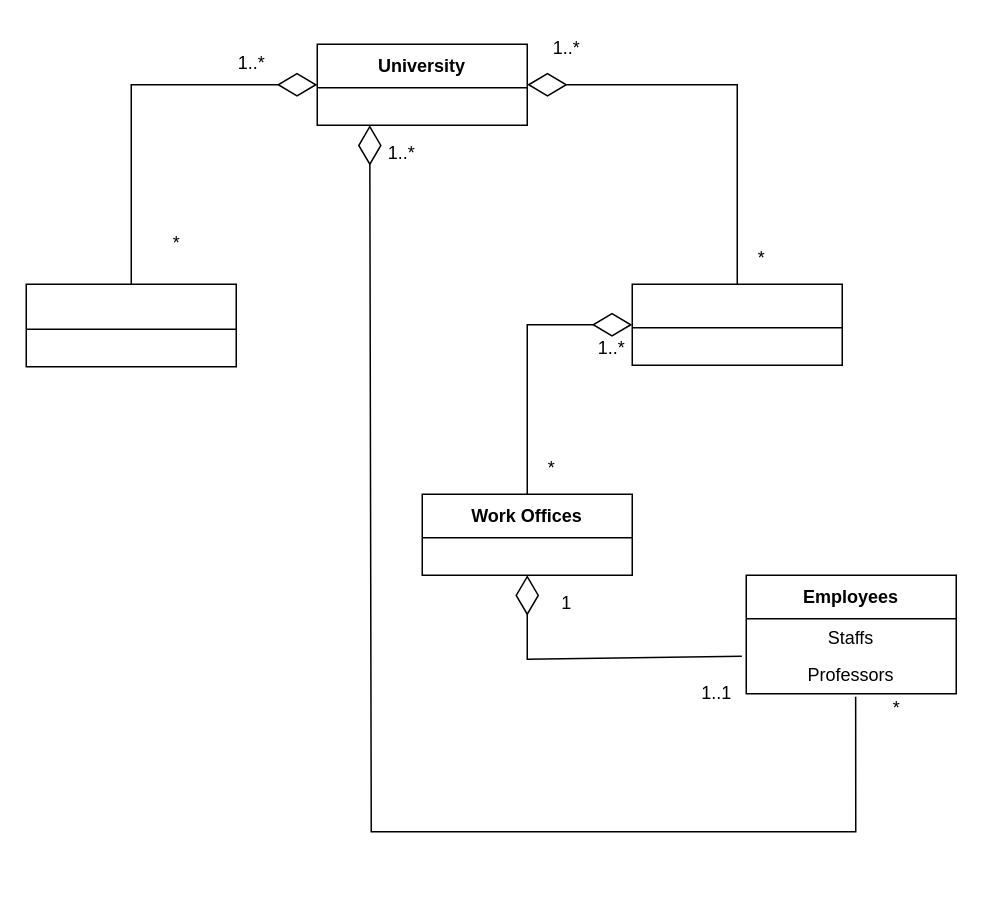
This 983x897 diagram has some shape labels left out. The centre of each missing label's shape, as x and y in pixels:
"Classes" goes at (x=130, y=325).
"Departmens" goes at (x=736, y=324).
